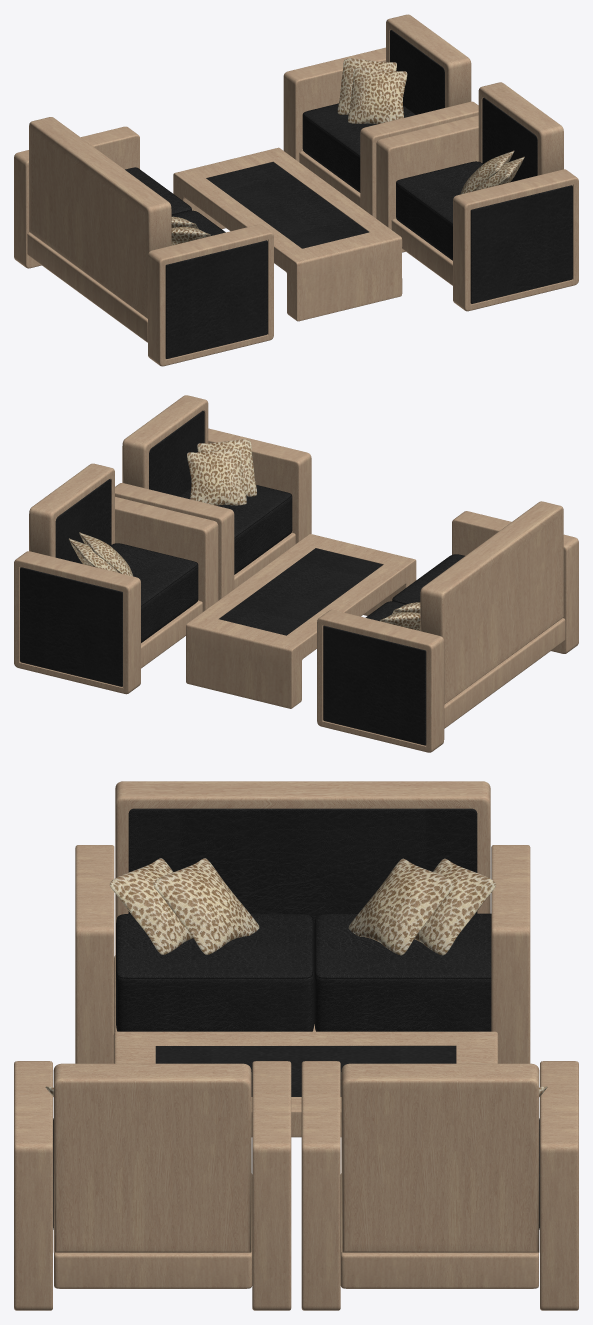
Rendered from mobleman.glb.
3 views of the same model, one above another, from view 1: azimuth 30°, elevation 25°; view 2: azimuth 150°, elevation 25°; view 3: azimuth 270°, elevation 25° (orthographic). The views are drawn at different scales.
Visible parts, largest first — view 1: sofa, Box025, seat001, Group001, Box031, Box028, Box016, Shape004, Box012, Shape001, Box017, Box032 (+13 smaller); view 2: sofa, Box025, seat, Group001, Box007, Box017, Box012, Shape001, Box028, Shape004, Box016, Box008 (+12 smaller); view 3: sofa, Box008, Box032, Shape002, Shape003, Box007, Box031, Box012, Box028, Box016, Box017, Box025 (+7 smaller).
Part boxes in pixels (x1,y1,x2,y2): sofa: [29, 117, 267, 358]; Box025: [173, 147, 402, 321]; seat001: [470, 97, 572, 303]; Group001: [206, 162, 368, 248]; Box031: [376, 115, 478, 252]; Box028: [453, 169, 578, 311]; Box016: [148, 224, 273, 366]; Shape004: [396, 161, 482, 260]; Box012: [283, 47, 385, 161]; Shape001: [302, 103, 415, 192]; Box017: [14, 126, 139, 268]; Box032: [478, 82, 563, 175]; sofa: [323, 501, 563, 745]; Box025: [186, 534, 416, 708]; seat: [20, 479, 122, 686]; Group001: [219, 548, 382, 635]; Box007: [115, 496, 218, 611]; Box017: [317, 609, 444, 752]; Box012: [14, 551, 140, 694]; Shape001: [110, 543, 198, 642]; Box028: [208, 428, 311, 543]; Shape004: [178, 485, 292, 574]; Box016: [452, 511, 578, 653]; Box008: [29, 463, 114, 557]; sofa: [115, 781, 490, 969]; Box008: [341, 1063, 539, 1252]; Box032: [53, 1063, 251, 1252]; Shape002: [116, 913, 314, 1031]; Shape003: [314, 913, 491, 1031]; Box007: [301, 1061, 340, 1310]; Box031: [252, 1061, 291, 1310]; Box012: [540, 1061, 578, 1310]; Box028: [14, 1061, 52, 1310]; Box016: [75, 845, 114, 1063]; Box017: [491, 845, 530, 1063]; Box025: [113, 1031, 498, 1137].
Bounding box in the file's own units: 3.24 × 1.17 × 2.55.
Materials: 6 (4 with a texture image).
